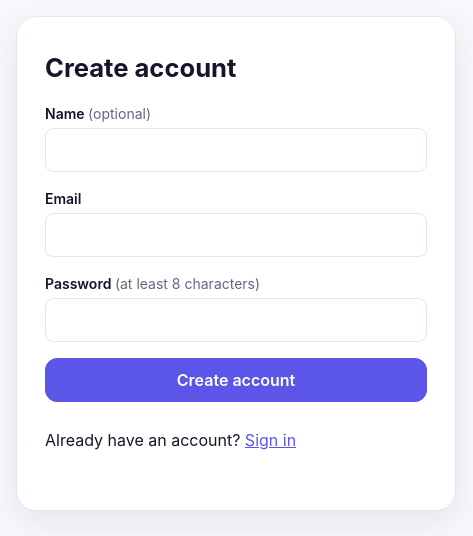
Test: TC-AUTH-01 — sign up › sends email, password and display name in metadata
Type "Ravi" into the field labelled "Name (optional)" at (236, 150), box [45,128,427,172]
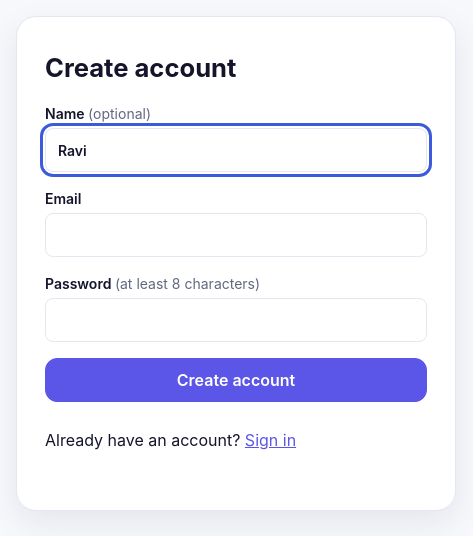
Type "ravi@test.local" into the field labelled "Email" at (236, 235), box [45,213,427,257]
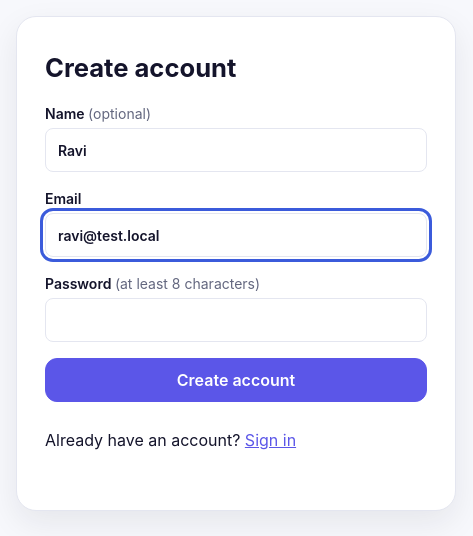
Type "Test@1234" into the password field labelled "Password (at least 8 characters)" at (236, 320), box [45,298,427,342]
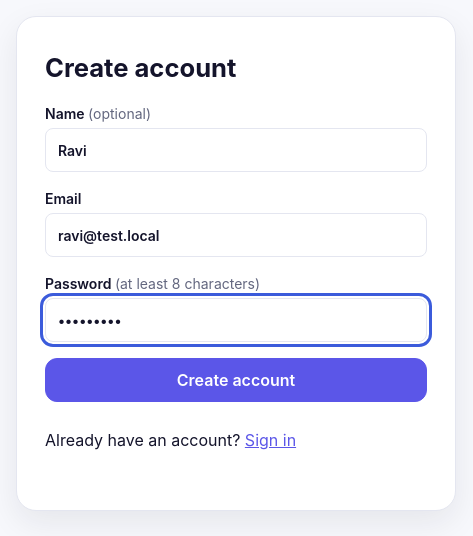
Click the button "Create account" at (236, 380), box [45,358,427,402]
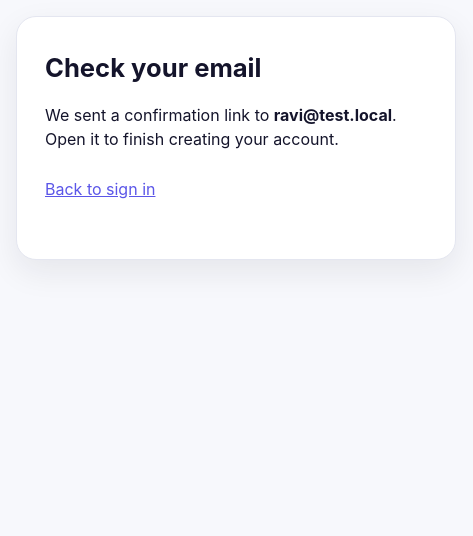
Expected: the heading "Check your email" is shown, [45,52,262,83]
